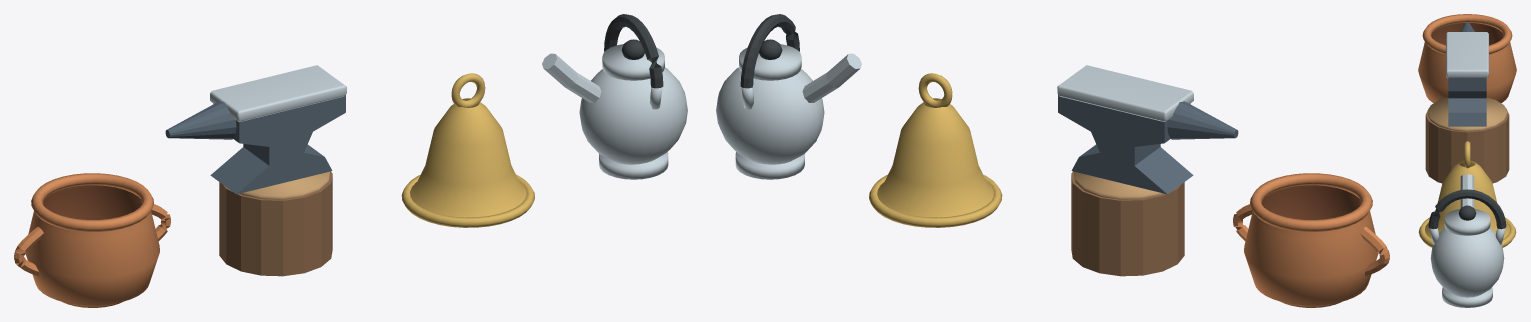
Rendered from metal_props.glb.
3 views of the same model, side by side, from view 1: azimuth 30°, elevation 25°; view 2: azimuth 150°, elevation 25°; view 3: azimuth 270°, elevation 25° (orthographic). The views are drawn at different scales.
Visible parts, largest first — view 1: Brass bell outside, Copper pot outer bowl, Anvil round stump, Steel kettle belly, Anvil shaped body, Anvil striking face, Copper pot rolled lip, Copper pot real inner bowl, Bell rolled mouth, Anvil tapered horn, Kettle arched handle, Kettle lid (+5 smaller); view 2: Brass bell outside, Copper pot outer bowl, Anvil round stump, Steel kettle belly, Anvil shaped body, Anvil striking face, Copper pot rolled lip, Copper pot real inner bowl, Bell rolled mouth, Anvil tapered horn, Kettle arched handle, Kettle lid (+5 smaller); view 3: Steel kettle belly, Anvil round stump, Copper pot outer bowl, Anvil striking face, Anvil shaped body, Brass bell outside, Copper pot rolled lip, Anvil stump top, Kettle arched handle, Kettle lid, Copper pot real inner bowl, Kettle flat foot (+7 smaller).
Boxes of the visible parts, box(x1,y1,x2,y2) form: Brass bell outside: box(410, 98, 526, 217); Copper pot outer bowl: box(25, 211, 159, 306); Anvil round stump: box(219, 171, 332, 276); Steel kettle belly: box(579, 67, 687, 164); Anvil shaped body: box(210, 95, 345, 194); Anvil striking face: box(210, 65, 346, 121); Copper pot rolled lip: box(31, 173, 153, 231); Copper pot real inner bowl: box(43, 185, 141, 219); Bell rolled mouth: box(401, 174, 534, 227); Anvil tapered horn: box(165, 101, 236, 139); Kettle arched handle: box(604, 14, 663, 88); Kettle lid: box(602, 44, 664, 80); Brass bell outside: box(877, 98, 993, 217); Copper pot outer bowl: box(1244, 211, 1378, 306); Anvil round stump: box(1071, 171, 1184, 276); Steel kettle belly: box(716, 67, 824, 164); Anvil shaped body: box(1058, 95, 1193, 194); Anvil striking face: box(1057, 65, 1193, 121); Copper pot rolled lip: box(1250, 173, 1372, 231); Copper pot real inner bowl: box(1262, 185, 1360, 219); Bell rolled mouth: box(869, 174, 1002, 227); Anvil tapered horn: box(1167, 101, 1238, 139); Kettle arched handle: box(740, 14, 799, 88); Kettle lid: box(739, 44, 801, 80); Steel kettle belly: box(1430, 227, 1504, 297); Anvil round stump: box(1425, 108, 1509, 183); Copper pot outer bowl: box(1418, 41, 1516, 103); Anvil striking face: box(1446, 32, 1488, 77); Anvil shaped body: box(1448, 77, 1486, 126); Brass bell outside: box(1425, 160, 1509, 238); Copper pot rolled lip: box(1422, 14, 1512, 54); Anvil stump top: box(1427, 97, 1507, 131); Kettle arched handle: box(1428, 189, 1506, 229); Kettle lid: box(1444, 209, 1490, 235); Copper pot real inner bowl: box(1431, 23, 1503, 45); Kettle flat foot: box(1442, 287, 1492, 307).
Bounding box in the file's own units: 4.44 × 1.04 × 0.78.
